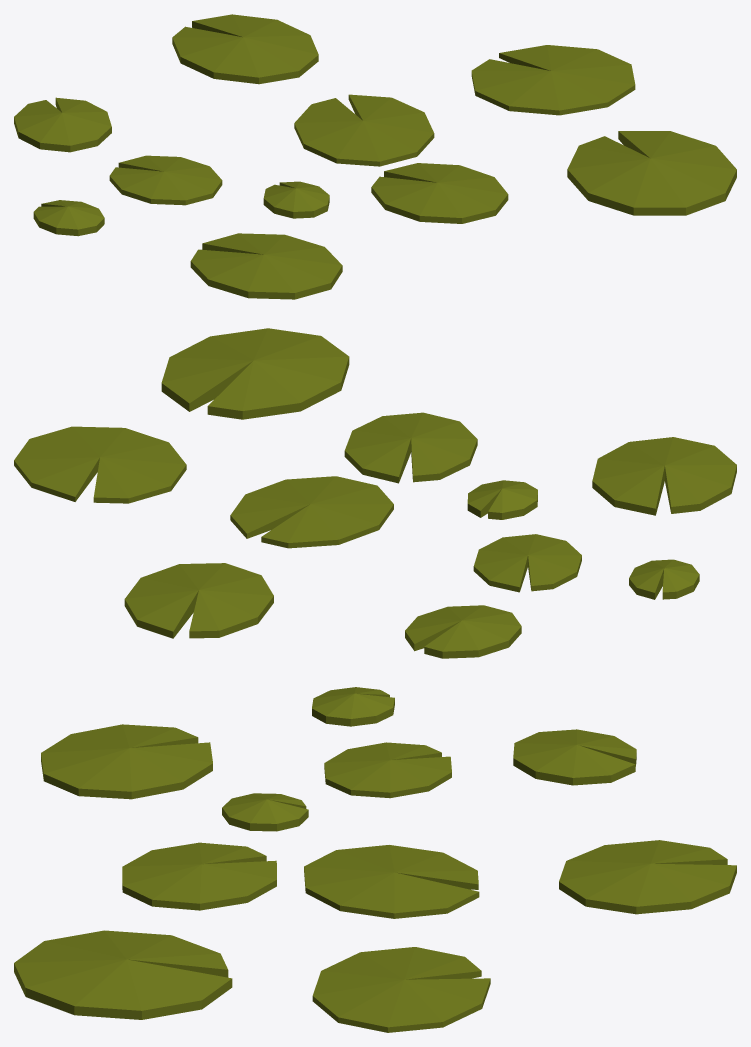
Rendered from Water Lily Multi_2.fbx.
The picture shows the model from 3 angles, top to bottom: view 1: azimuth 30°, elevation 25°; view 2: azimuth 150°, elevation 25°; view 3: azimuth 270°, elevation 25°; orthographic projection. The views are drawn at different scales.
Parts seen in each view (by area): view 1: Water Lily Multi_2.001; view 2: Water Lily Multi_2.001; view 3: Water Lily Multi_2.001.
Part boxes in pixels (left/top/right/bottom): Water Lily Multi_2.001: left=14, top=14, right=736, bottom=299; Water Lily Multi_2.001: left=14, top=328, right=736, bottom=658; Water Lily Multi_2.001: left=14, top=687, right=736, bottom=1032.
Size of the model in its own units: 1.27 by 0.0357 by 1.15.
